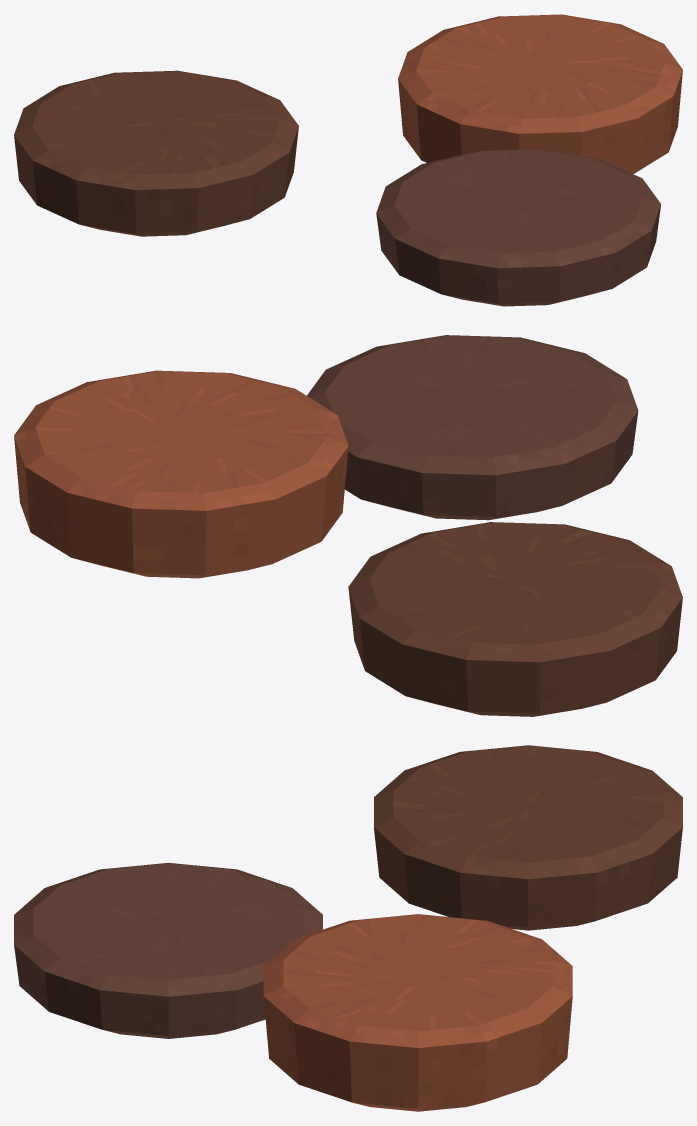
File: candy.glb
The picture shows the model from 3 angles, top to bottom: view 1: azimuth 30°, elevation 25°; view 2: azimuth 150°, elevation 25°; view 3: azimuth 270°, elevation 25°; orthographic projection. The views are drawn at different scales.
Parts seen in each view (by area): view 1: block_moulded candy (×3); view 2: block_moulded candy (×3); view 3: block_moulded candy (×3).
Part boxes in pixels (box(x1,y1,x2,y2)): block_moulded candy (×3): box(14, 14, 682, 306); block_moulded candy (×3): box(14, 335, 682, 716); block_moulded candy (×3): box(14, 745, 682, 1111).
Size of the model in its own units: 0.0593 by 0.00806 by 0.0533.
Materials: 1 (1 with a texture image).
